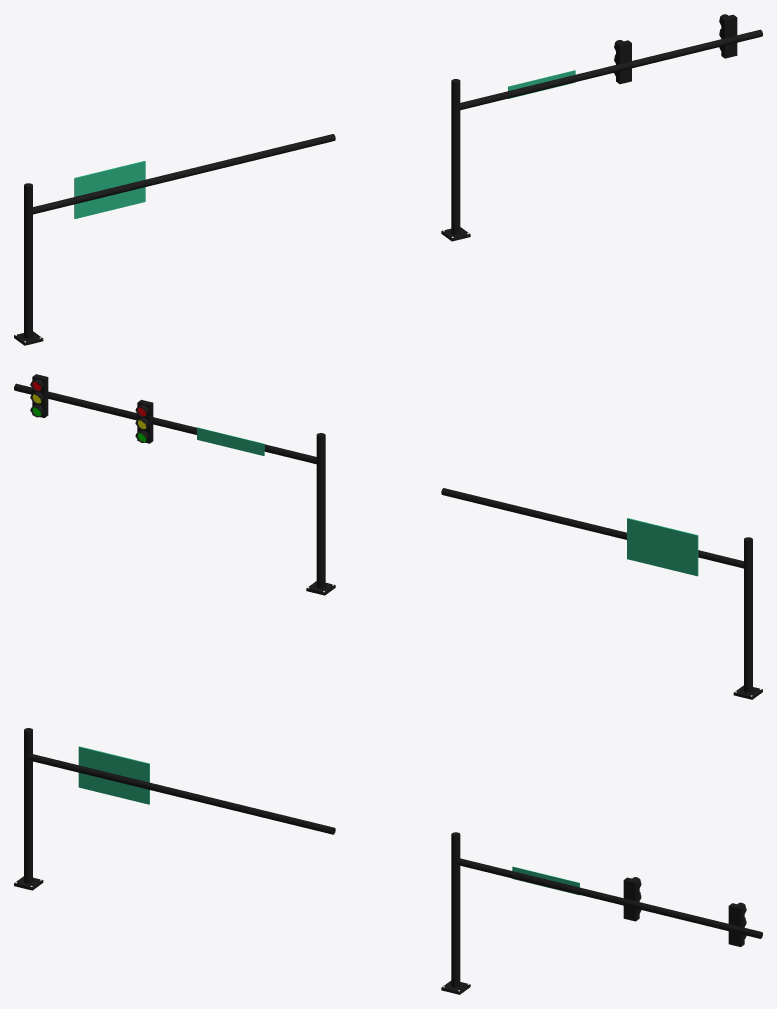
Rendered from traffic light.fbx.
3 views of the same model, one above another, from view 1: azimuth 30°, elevation 25°; view 2: azimuth 150°, elevation 25°; view 3: azimuth 330°, elevation 25° (orthographic).
Visible parts, largest first — view 1: highway signs.001, hpillar.001, hpillar, vpillar, vpillar.001, LIGHTS, LIGHTS.001; view 2: highway signs.001, hpillar.001, hpillar, vpillar, vpillar.001, highway signs, LIGHTS, LIGHTS.001; view 3: highway signs.001, hpillar, hpillar.001, vpillar, vpillar.001, LIGHTS, LIGHTS.001.
Boxes of the visible parts, <box> form: highway signs.001: <box>74,161,145,218</box>; hpillar.001: <box>32,134,335,214</box>; hpillar: <box>460,29,762,110</box>; vpillar: <box>451,79,460,234</box>; vpillar.001: <box>24,183,32,338</box>; LIGHTS: <box>719,14,737,58</box>; LIGHTS.001: <box>614,40,631,84</box>; highway signs.001: <box>627,518,698,576</box>; hpillar.001: <box>441,488,744,568</box>; hpillar: <box>14,383,316,464</box>; vpillar: <box>316,433,325,588</box>; vpillar.001: <box>744,537,752,692</box>; highway signs: <box>197,427,264,455</box>; LIGHTS: <box>30,374,48,417</box>; LIGHTS.001: <box>135,399,153,443</box>; highway signs.001: <box>78,746,149,804</box>; hpillar: <box>456,858,762,938</box>; hpillar.001: <box>29,754,335,834</box>; vpillar: <box>451,832,460,987</box>; vpillar.001: <box>24,728,32,883</box>; LIGHTS: <box>728,902,746,946</box>; LIGHTS.001: <box>623,877,641,921</box>.
Bounding box in the file's own units: 12152 × 2418 × 408.
